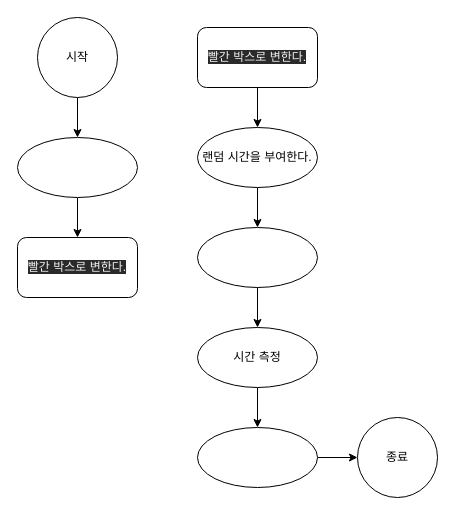
Image size: 455x515. Some labels were removed from this diagram. The box of each missing label's shape, as (x1, y1, x2, y2) in pixels:
시간 출력: (196, 426, 318, 488)
시간이 지나면 박스가 초록색으로 변한다.: (196, 226, 318, 288)
파란 박스를 클릭한다.: (16, 136, 138, 198)
